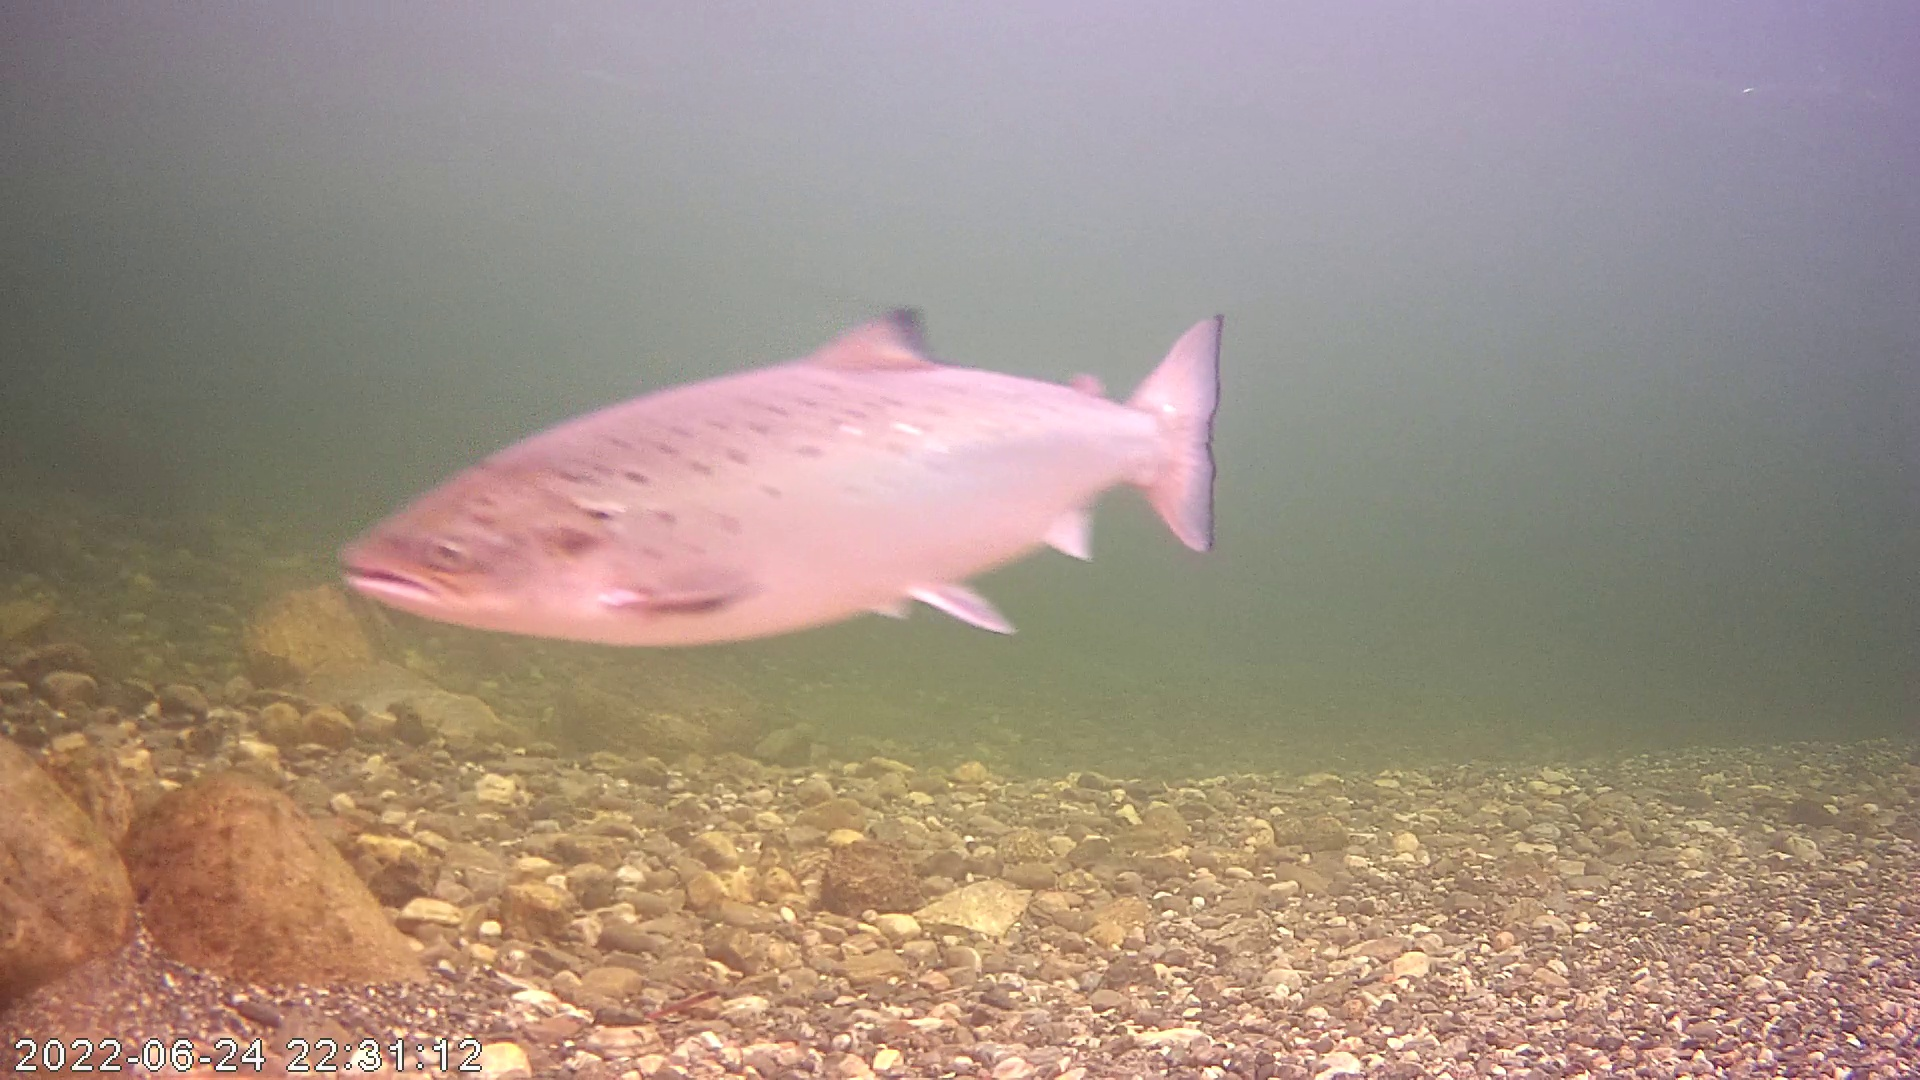salmon: (338, 303, 1228, 651)
